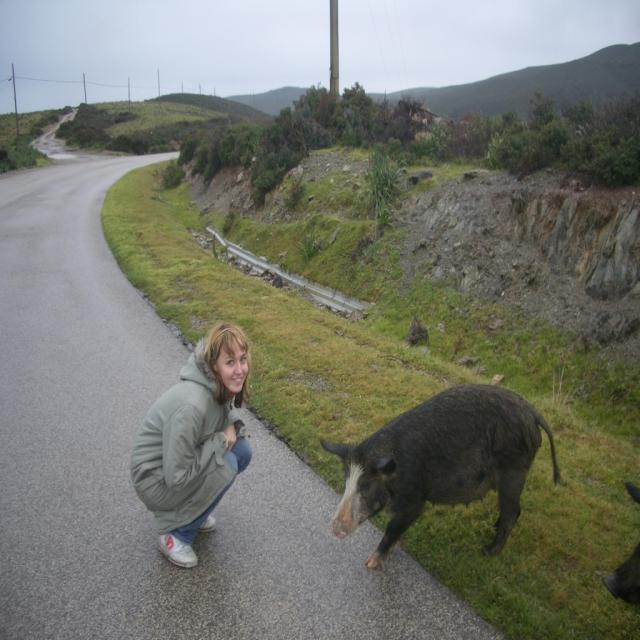Pig: (318, 381, 562, 570), (602, 478, 640, 611)
